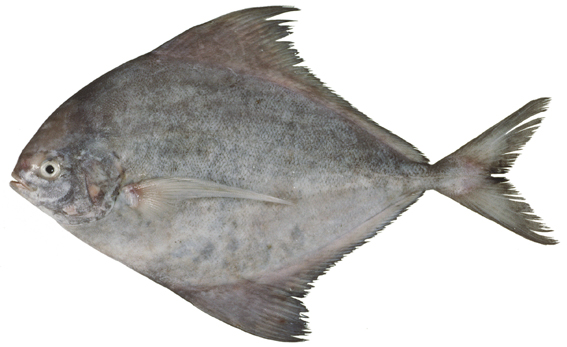fish: (8, 5, 561, 343)
